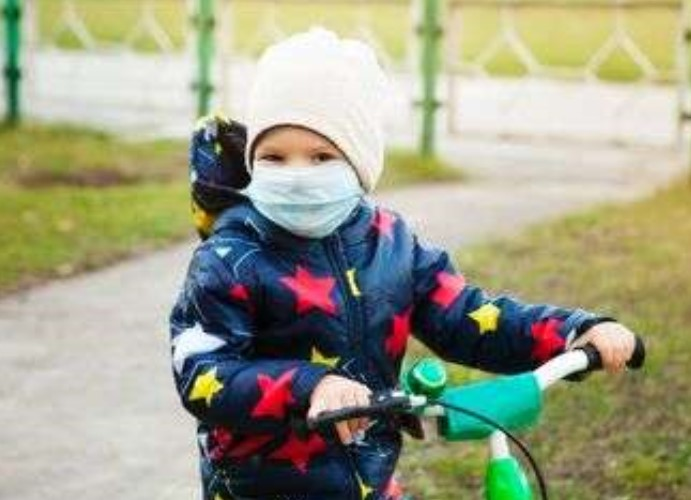face_with_mask: (239, 27, 394, 236)
